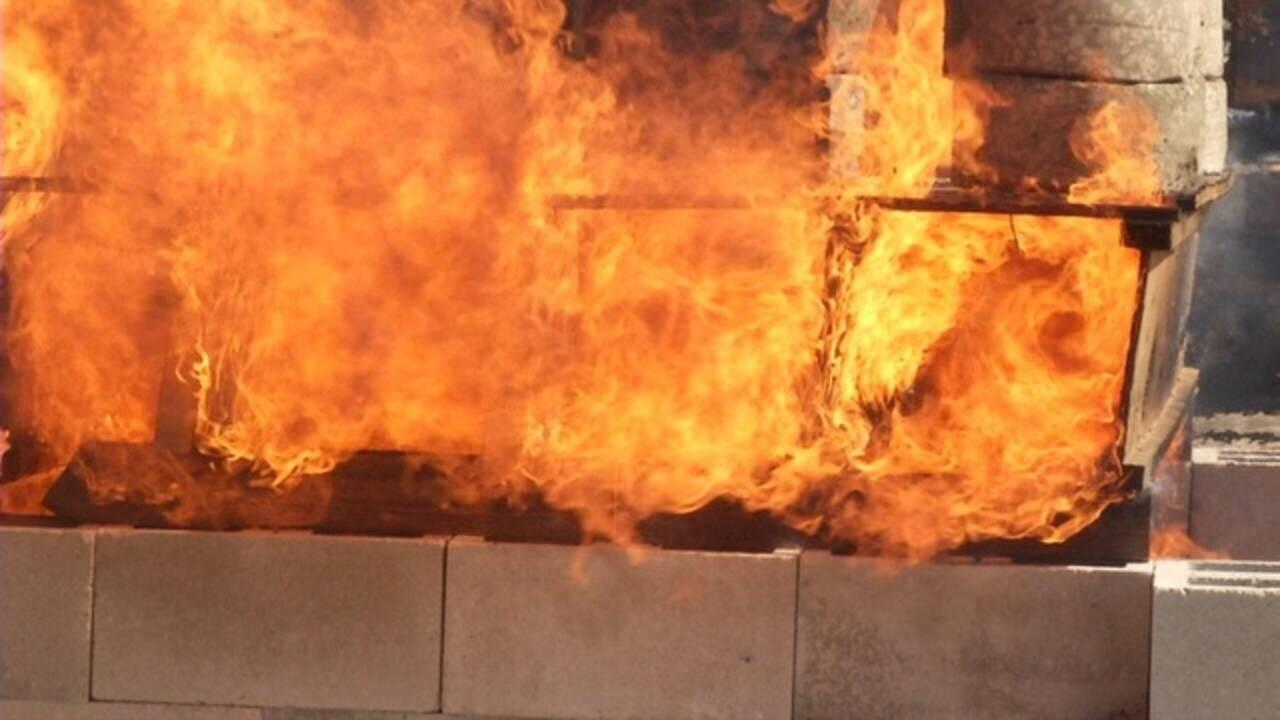Fire: (7, 2, 1180, 577)
